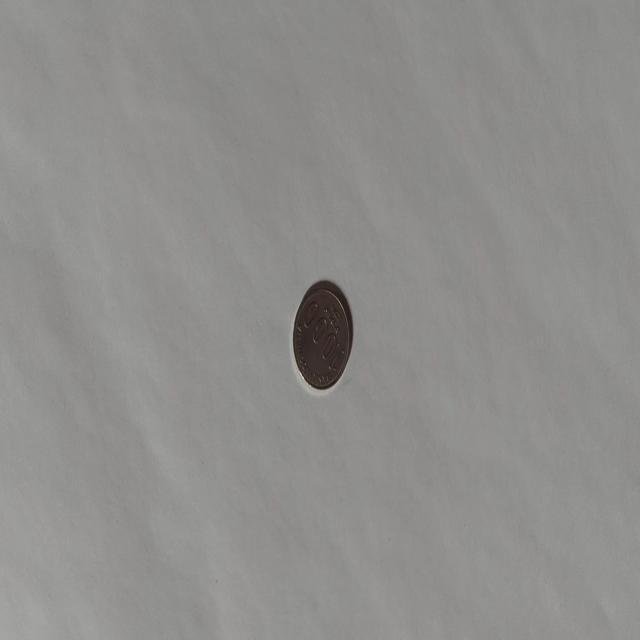seribu rupiah koin: (291, 278, 353, 391)
